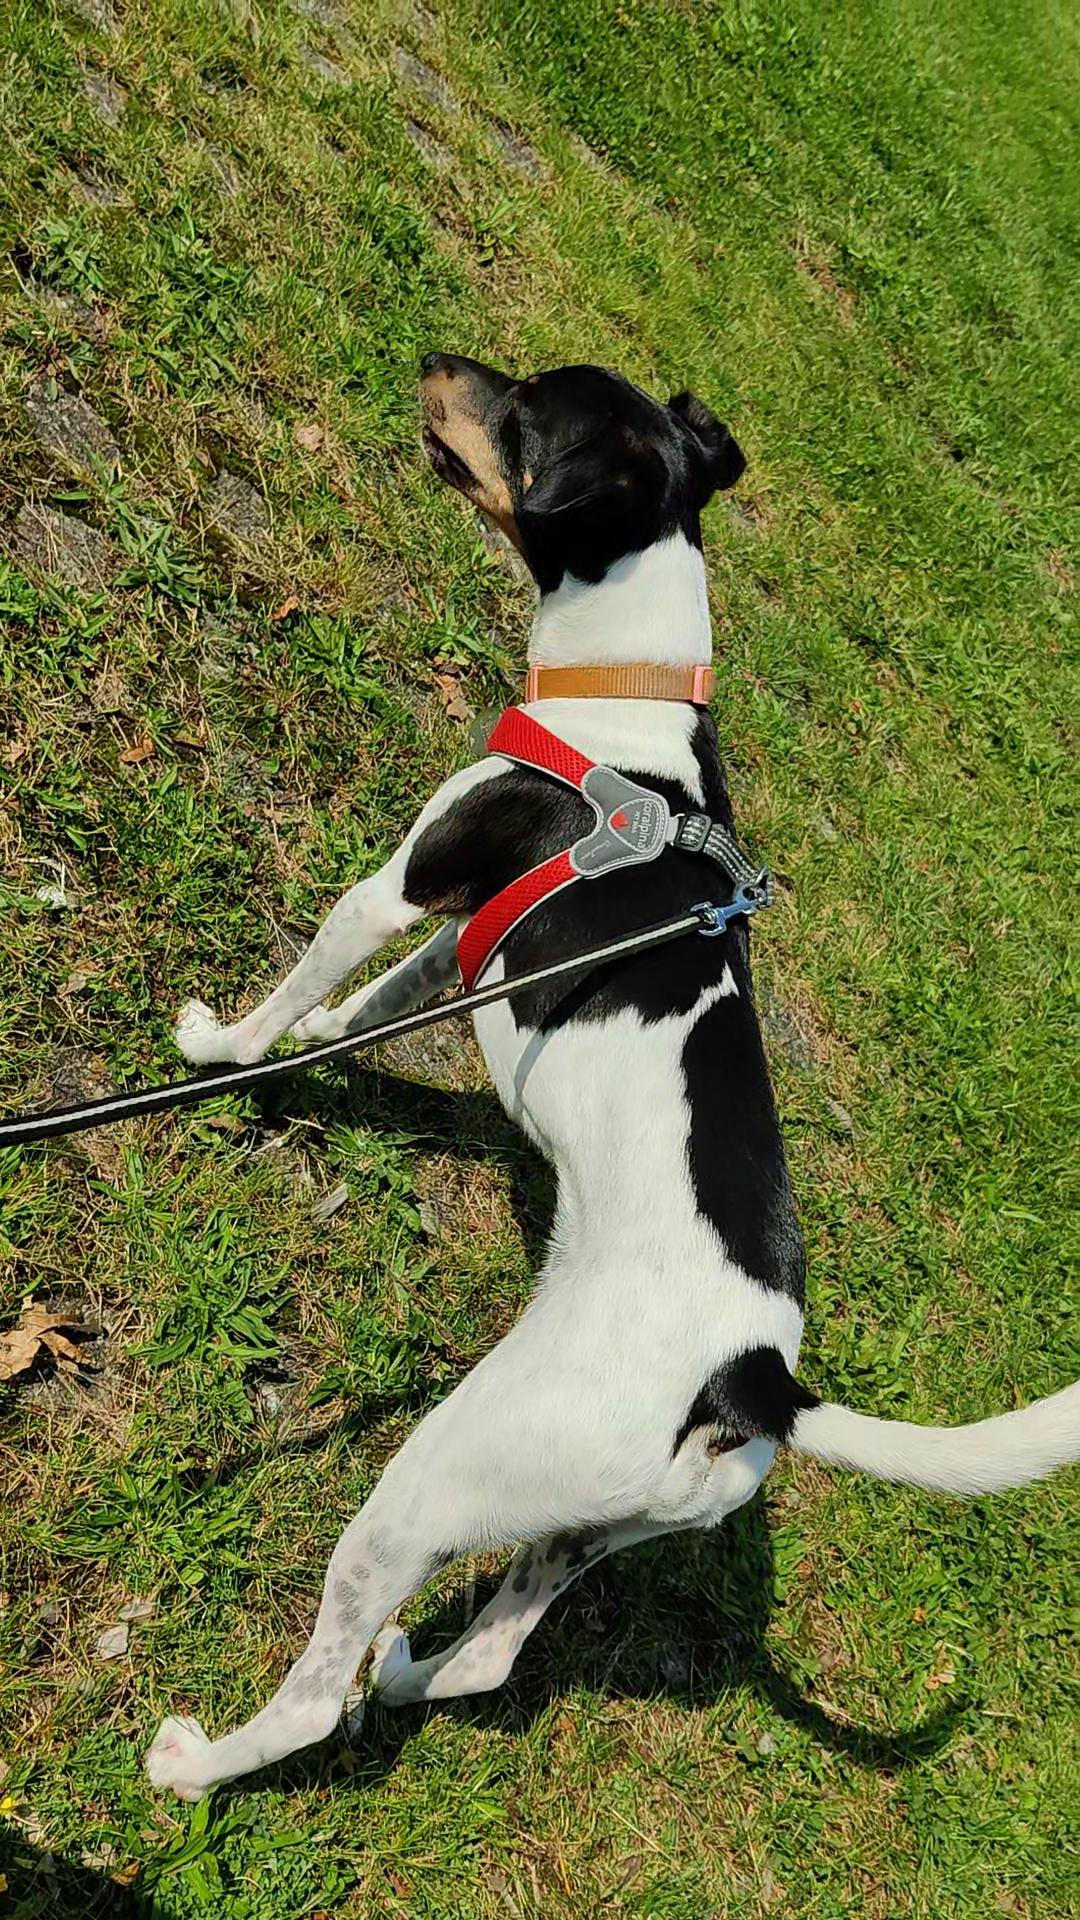Dog: (125, 335, 1079, 1829)
